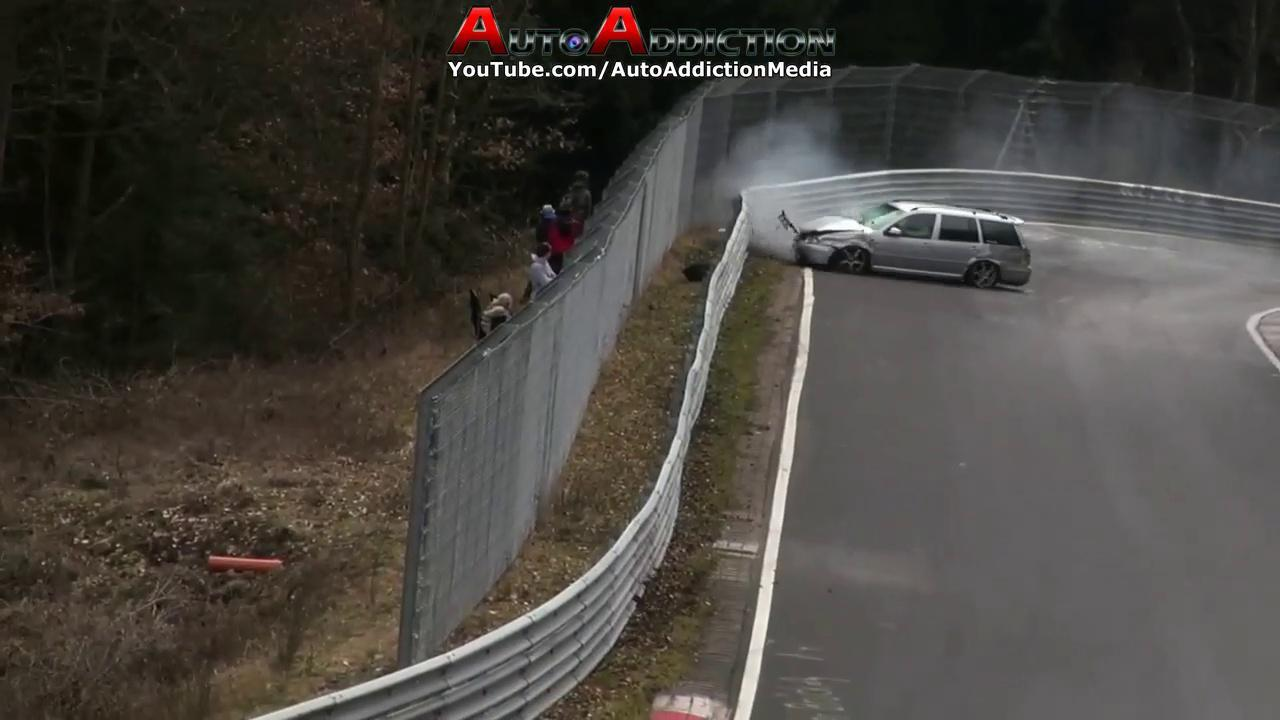car-accident: (707, 163, 1038, 292)
